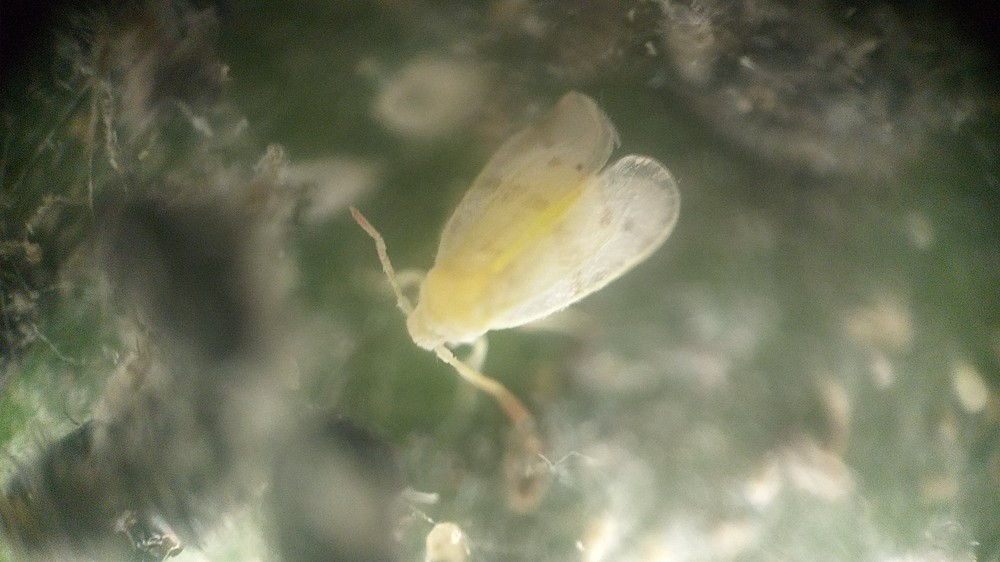Mosca Blanca: (338, 90, 701, 431)
